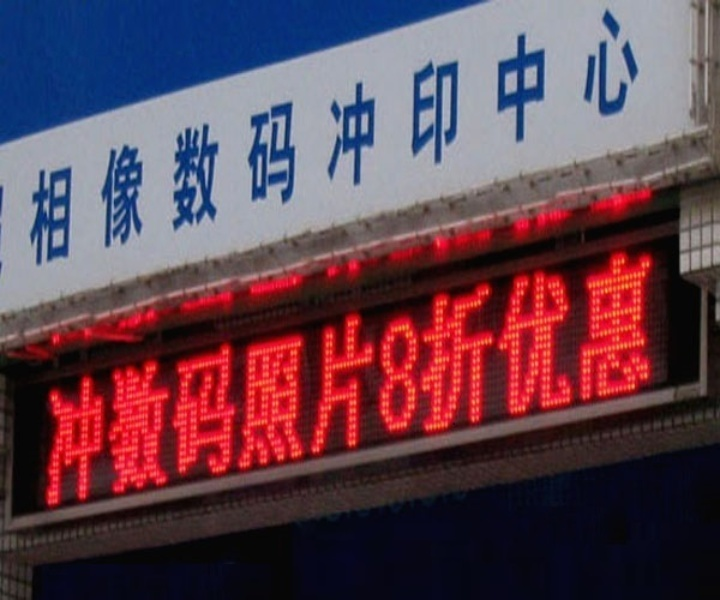text: (49, 244, 64, 515), (65, 244, 80, 515), (81, 244, 96, 515), (97, 244, 112, 515), (113, 244, 128, 515), (129, 244, 144, 515), (145, 244, 160, 515), (161, 244, 176, 515), (177, 244, 192, 515), (193, 244, 208, 515), (209, 244, 224, 515), (225, 244, 240, 515), (241, 244, 256, 515), (257, 244, 272, 515), (273, 244, 288, 515), (289, 244, 304, 515), (305, 244, 320, 515), (321, 244, 336, 515), (337, 244, 352, 515), (353, 244, 368, 515), (369, 244, 384, 515), (385, 244, 400, 515), (401, 244, 416, 515), (417, 244, 432, 515), (433, 244, 448, 515), (449, 244, 464, 515), (465, 244, 480, 515), (481, 244, 496, 515), (497, 244, 512, 515), (513, 244, 528, 515), (529, 244, 544, 515), (545, 244, 560, 515), (561, 244, 576, 515), (577, 244, 592, 515), (593, 244, 608, 515), (609, 244, 624, 515), (625, 244, 640, 515), (641, 244, 656, 515), (33, 3, 48, 268), (49, 3, 64, 268), (65, 3, 80, 268), (81, 3, 96, 268), (97, 3, 112, 268), (113, 3, 128, 268), (129, 3, 144, 268), (145, 3, 160, 268), (161, 3, 176, 268), (177, 3, 192, 268), (193, 3, 208, 268), (209, 3, 224, 268), (225, 3, 240, 268), (241, 3, 256, 268), (257, 3, 272, 268), (273, 3, 288, 268), (289, 3, 304, 268), (305, 3, 320, 268), (321, 3, 336, 268), (337, 3, 352, 268), (353, 3, 368, 268), (369, 3, 384, 268), (385, 3, 400, 268), (401, 3, 416, 268), (417, 3, 432, 268), (433, 3, 448, 268), (449, 3, 464, 268), (465, 3, 480, 268), (481, 3, 496, 268), (497, 3, 512, 268), (513, 3, 528, 268), (529, 3, 544, 268), (545, 3, 560, 268), (561, 3, 576, 268), (577, 3, 592, 268), (593, 3, 608, 268), (609, 3, 624, 268), (625, 3, 640, 268), (19, 3, 32, 268), (43, 244, 48, 515), (641, 3, 646, 268)
